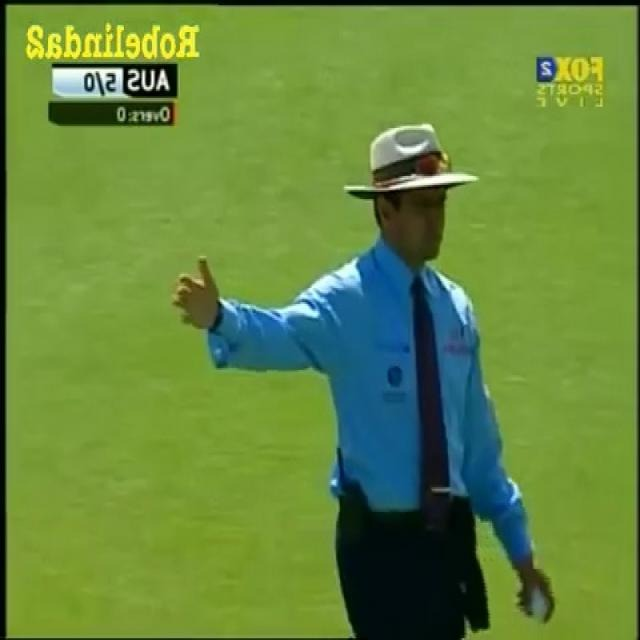No_Ball: (165, 112, 560, 640)
